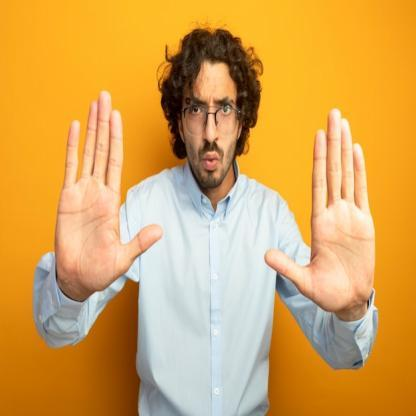stop: (264, 107, 377, 312), (54, 88, 163, 294)
